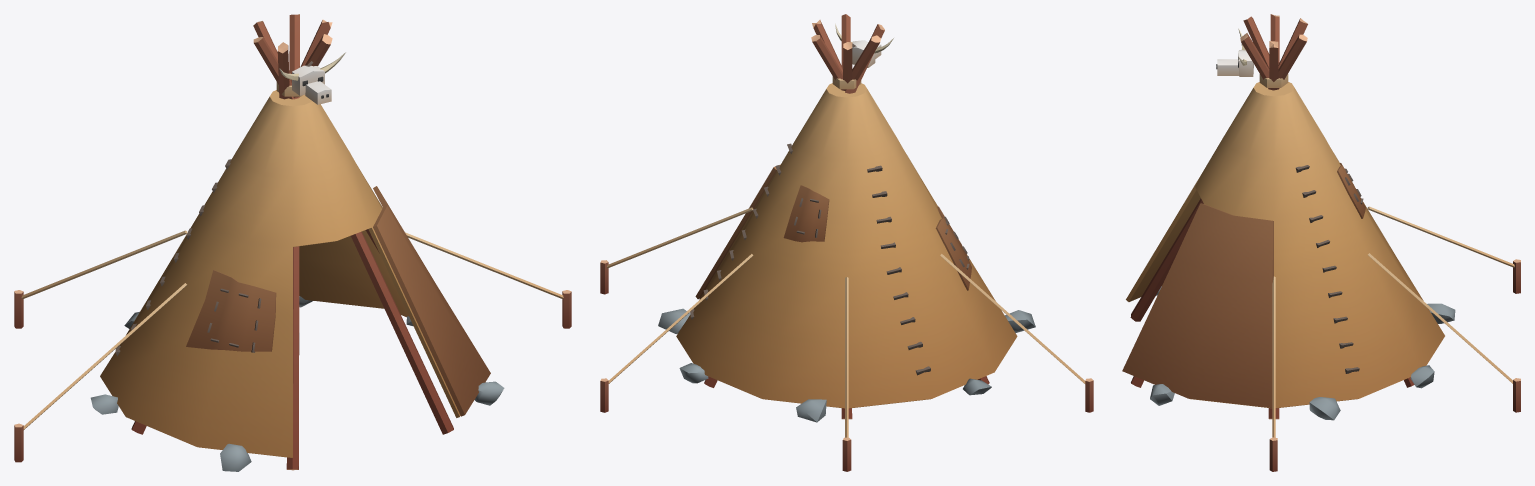
Rendered from tent_hide_A.fbx.
3 views of the same model, side by side, from view 1: azimuth 30°, elevation 25°; view 2: azimuth 150°, elevation 25°; view 3: azimuth 270°, elevation 25° (orthographic). The views are drawn at different scales.
Visible parts, largest first — view 1: tent_hide_A; view 2: tent_hide_A; view 3: tent_hide_A.
Boxes of the visible parts, <box> form: tent_hide_A: <box>14,14,571,471</box>; tent_hide_A: <box>600,14,1093,471</box>; tent_hide_A: <box>1122,14,1520,471</box>.
Size of the model in its own units: 1.66 by 1.06 by 1.16.
Materials: 1 (1 with a texture image).
